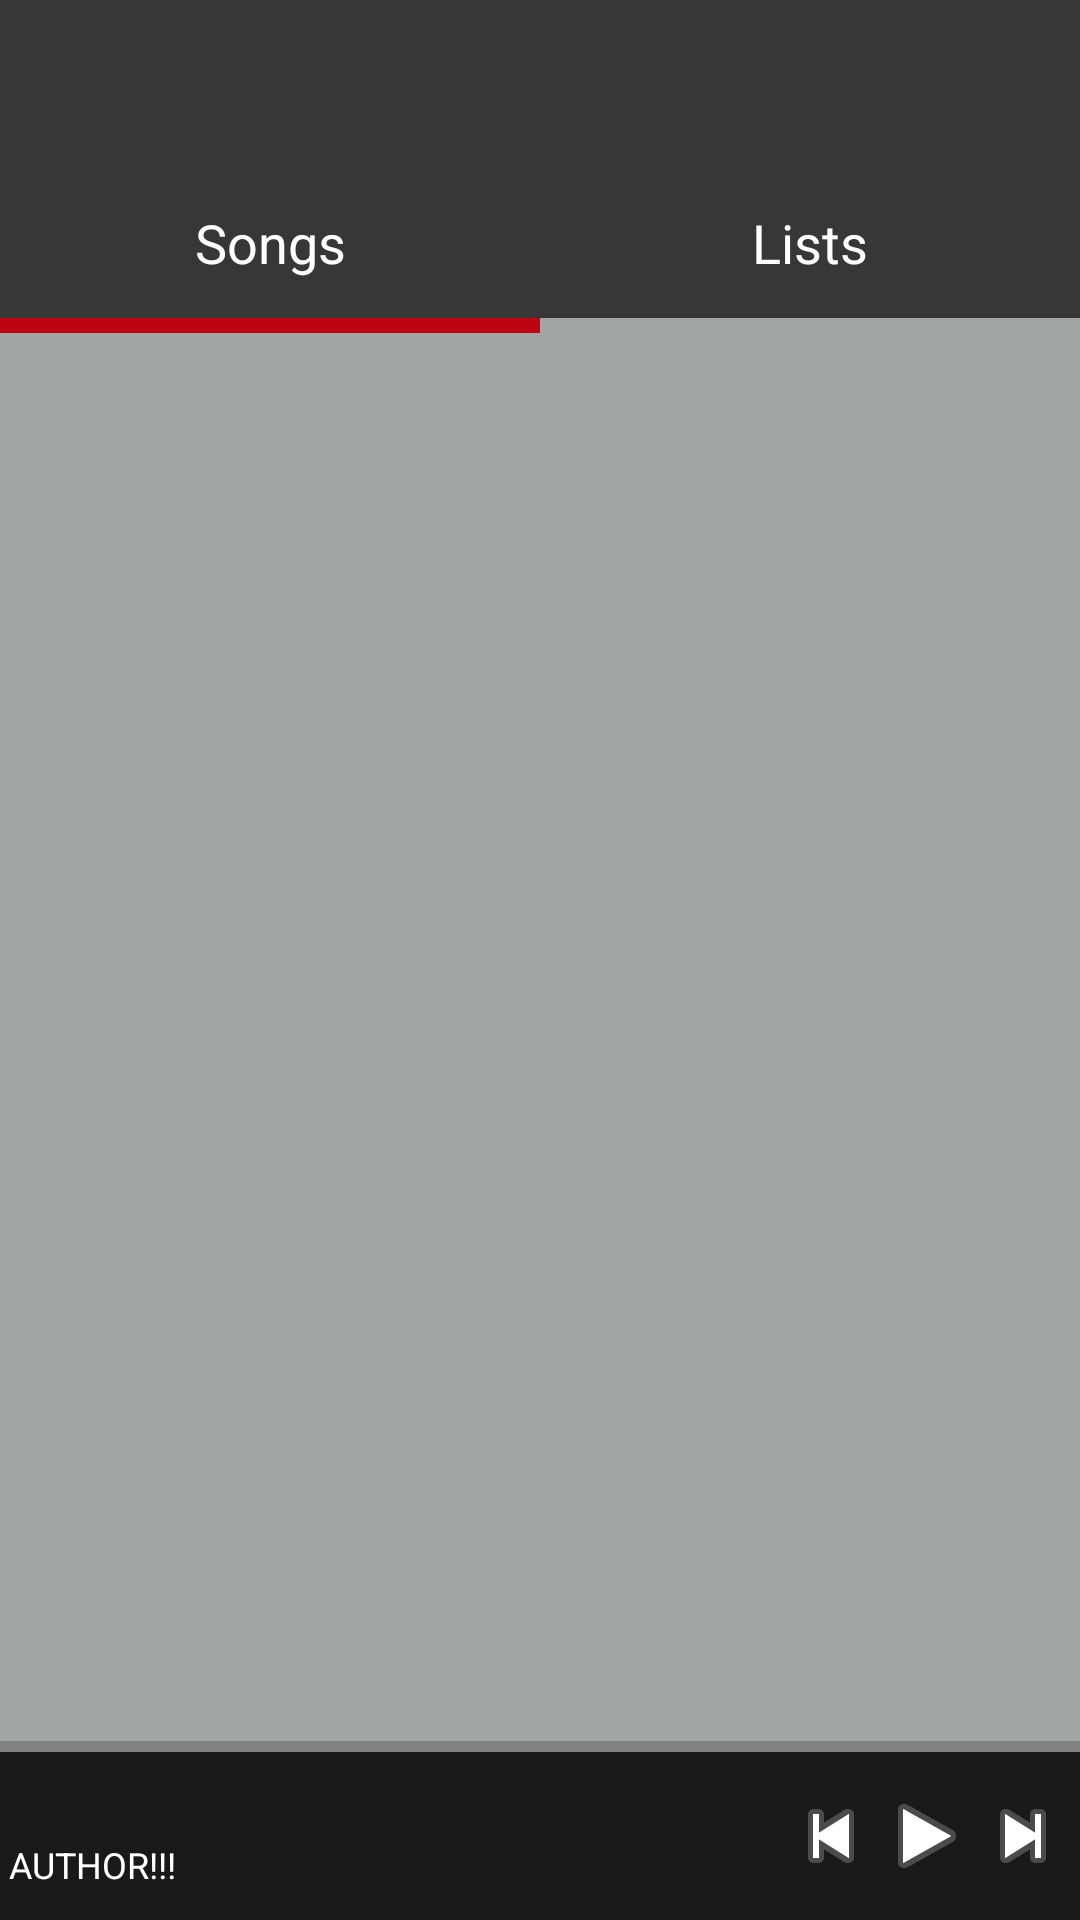

Icon click points for this 1080 × 1920 phone screenshot, format (x=x, y=y):
Next: (x=1023, y=1836)
Play: (x=927, y=1836)
Previous: (x=831, y=1836)
